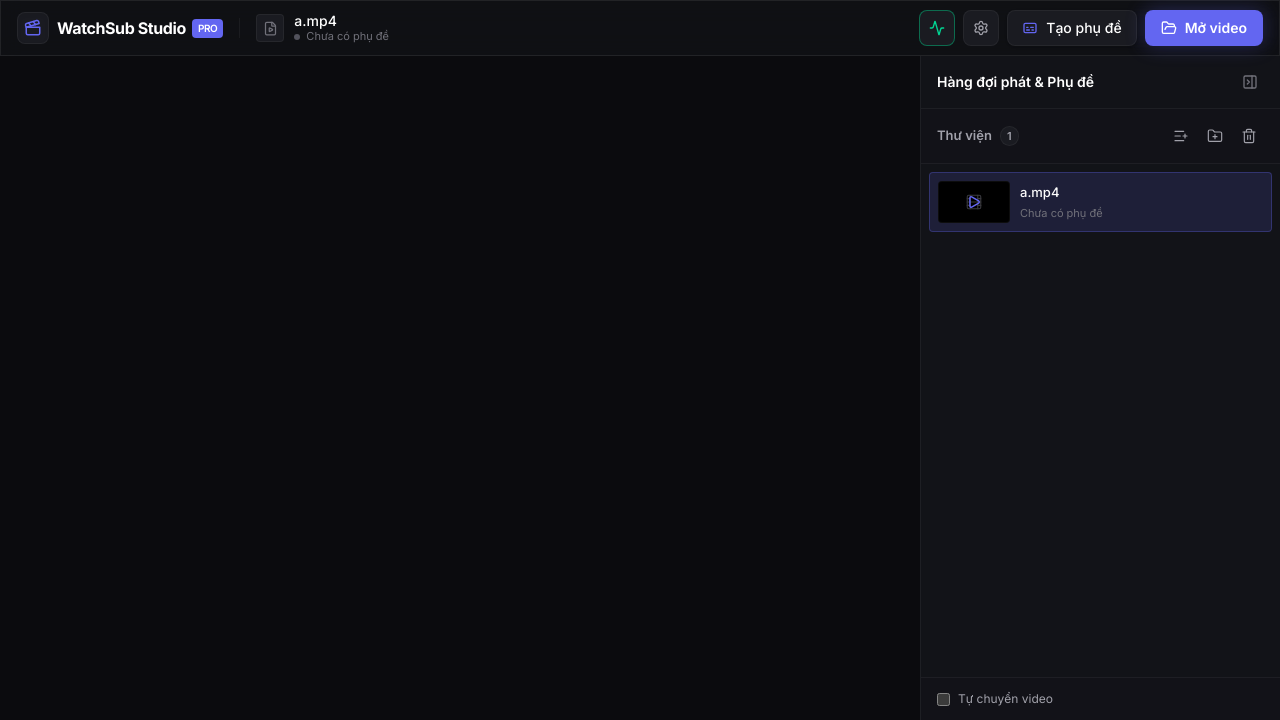
App › restores selected video, playback time, subtitle pair, and auto-advance choice
Expected: the list item with test id "queue-row-active" shows "a.mp4", [1020, 183, 1227, 202]
Step 1. Click the button with aria-label "Phụ đề" → (1072, 28), box [1007, 10, 1137, 46]
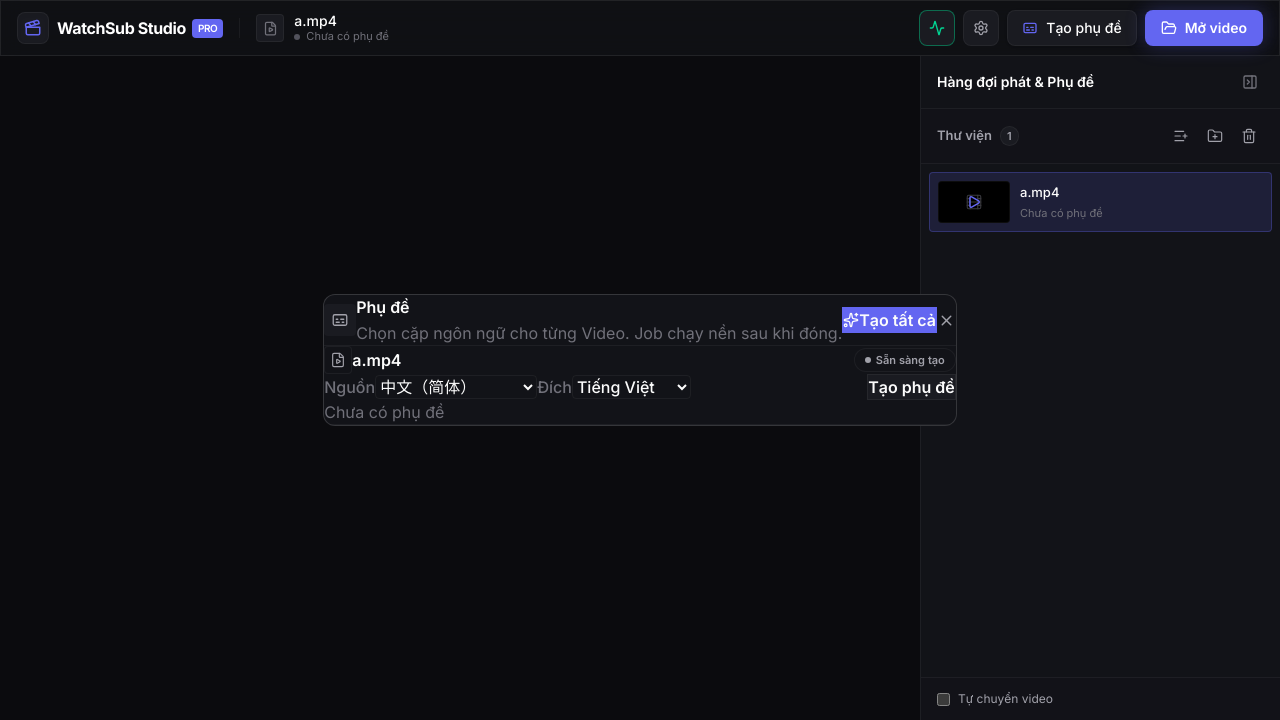
Expected: the checkbox labelled "Tự chuyển video" is not checked, [937, 692, 950, 706]
Expected: the dropdown with test id "source-language" shows "中文（简体）", [375, 375, 537, 399]
